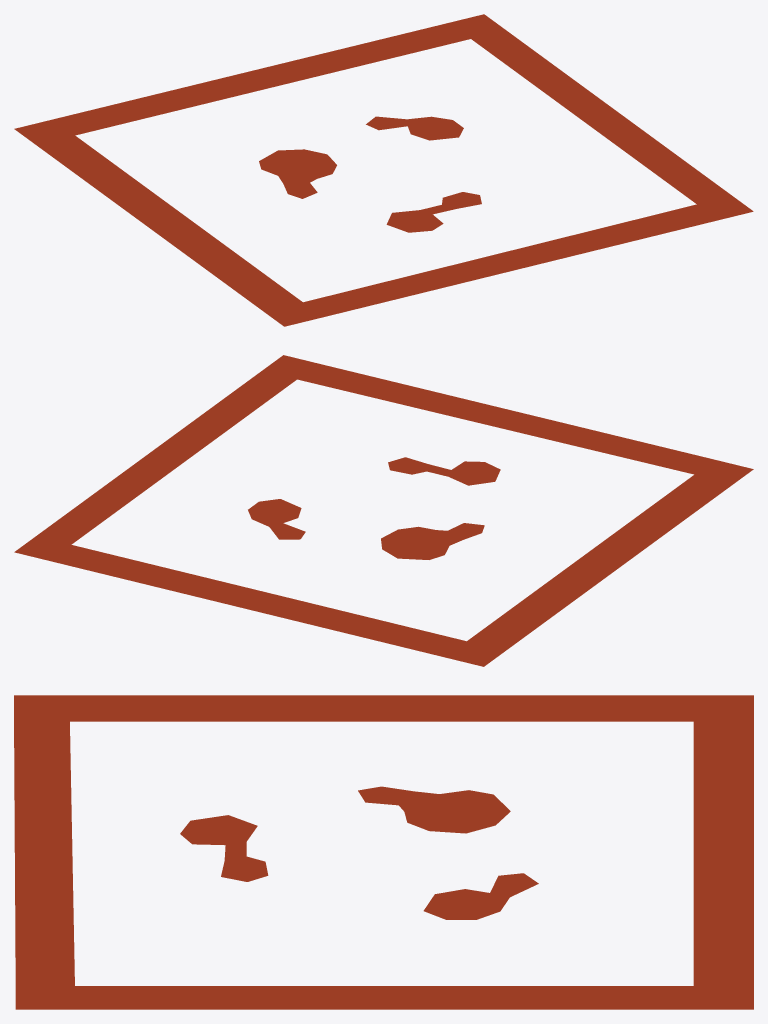
The model's file is forest-obstacles-transformed.glb.
The picture shows the model from 3 angles, top to bottom: view 1: azimuth 30°, elevation 25°; view 2: azimuth 150°, elevation 25°; view 3: azimuth 270°, elevation 25°; orthographic projection. The views are drawn at different scales.
Visible parts, largest first — view 1: Obstacles; view 2: Obstacles; view 3: Obstacles.
Part boxes in pixels (x1=…): Obstacles: x1=14, y1=14, x2=753, y2=326; Obstacles: x1=14, y1=355, x2=753, y2=666; Obstacles: x1=14, y1=695, x2=753, y2=1009.
Size of the model in its own units: 10.33 by 0.0151 by 10.29.
Materials: 1 (1 with a texture image).
